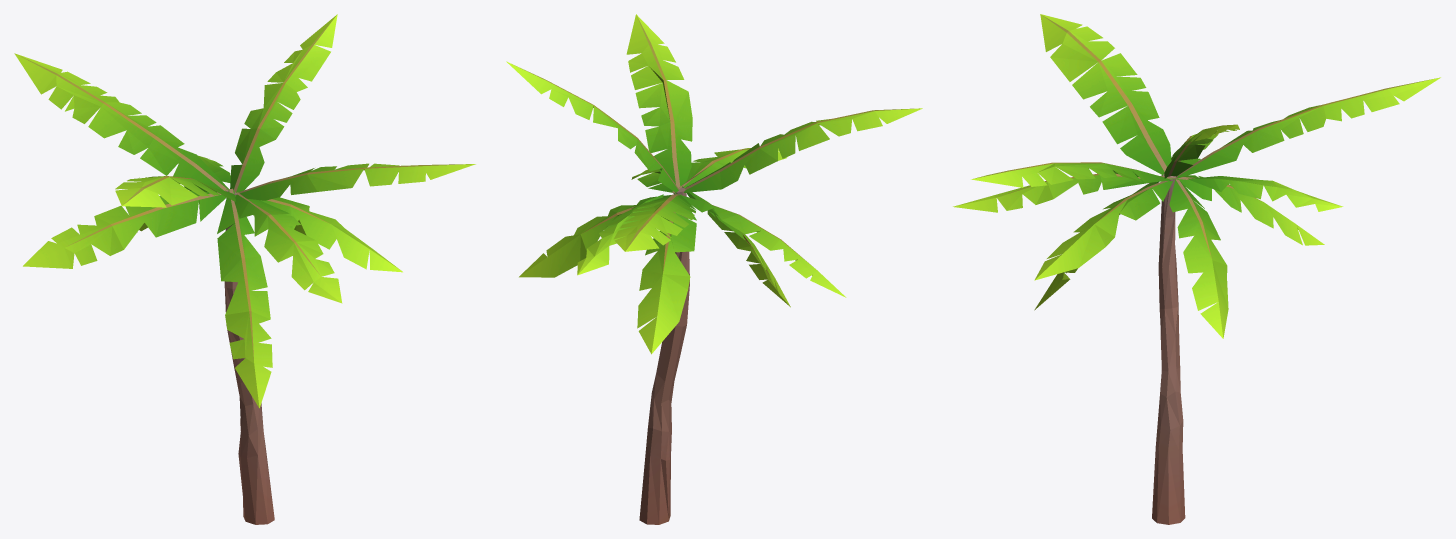
3 views of the same model, side by side, from view 1: azimuth 30°, elevation 25°; view 2: azimuth 150°, elevation 25°; view 3: azimuth 270°, elevation 25° (orthographic).
Visible parts, largest first — view 1: Palm3_straight; view 2: Palm3_straight; view 3: Palm3_straight.
Boxes of the visible parts, x1,y1,x2,y2 form: Palm3_straight: (14,14,475,524); Palm3_straight: (506,14,922,524); Palm3_straight: (953,14,1440,524).
Bounding box in the file's own units: 308 × 400 × 395.
1 material, 1 textured.
